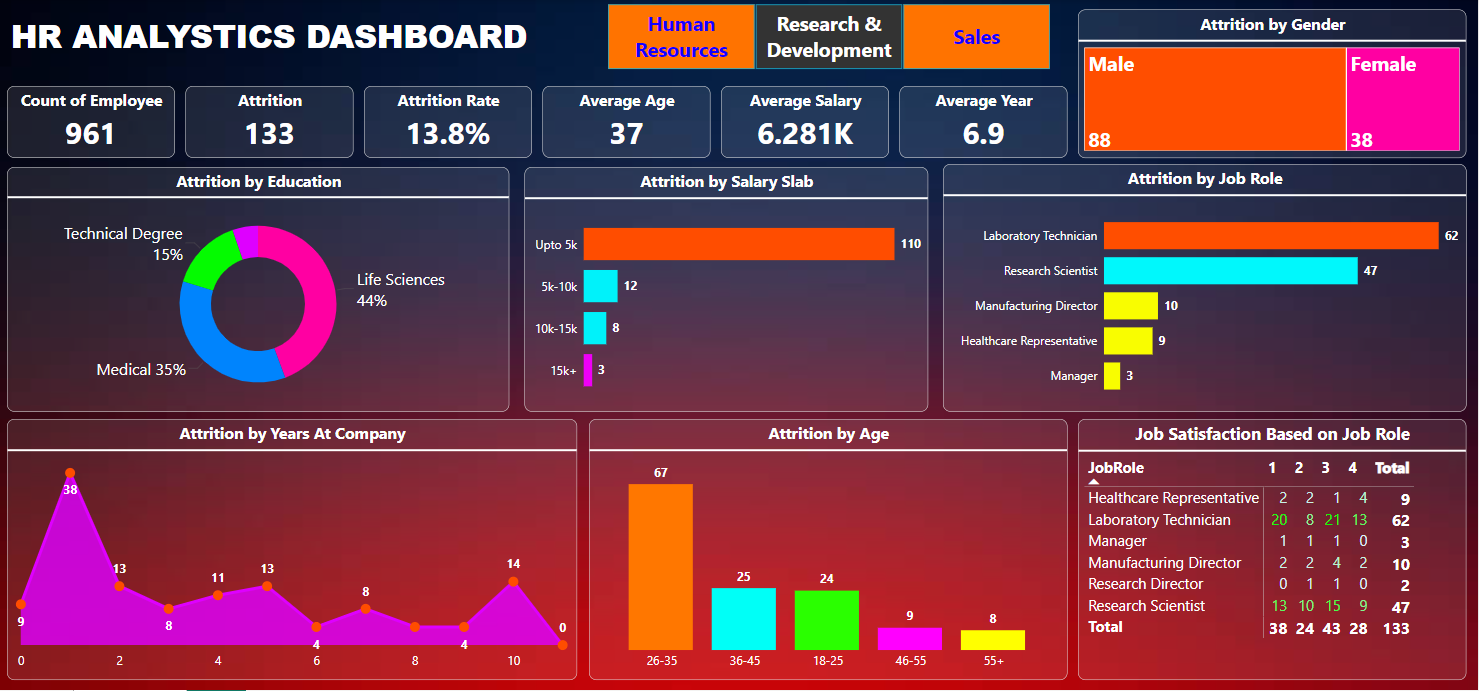

The dashboard page shown, as its layout file describes it:
{"tool":"powerbi","page":{"name":"Page 1","canvas":[2000,930],"ordinal":0},"visuals":[{"type":"card","title":"Count of Employee","fields":{"Values":["Count(HR_Analytics.EmpID)"]},"box":[20.2,117.1,226.1,96.9],"z":0},{"type":"card","title":"Attrition ","fields":{"Values":["Sum(HR_Analytics.AttritionCount)"]},"box":[260.4,117.1,226.1,96.9],"z":1000},{"type":"card","title":"Attrition Rate","fields":{"Values":["HR_Analytics.attrition_rate"]},"box":[500.7,117.1,226.1,96.9],"z":2000},{"type":"card","title":"Average Age","fields":{"Values":["Avg(HR_Analytics.Age)"]},"box":[740.9,117.1,226.1,96.9],"z":3000},{"type":"card","title":"Average Salary","fields":{"Values":["Avg(HR_Analytics.MonthlyIncome)"]},"box":[981.2,117.1,226.1,96.9],"z":4000},{"type":"card","title":"Average Year","fields":{"Values":["Avg(HR_Analytics.YearsAtCompany)"]},"box":[1221.4,117.1,226.1,96.9],"z":5000},{"type":"slicer","title":"Department","fields":{"Values":["HR_Analytics.Department"]},"box":[803.5,0,644,100.9],"z":6000},{"type":"textbox","box":[20.2,14.1,720.7,78.7],"z":7000},{"type":"treemap","title":"Attrition by Gender","fields":{"Group":["HR_Analytics.Gender"],"Values":["Sum(HR_Analytics.AttritionCount)"]},"box":[1461.7,14.1,522.9,199.9],"z":8000},{"type":"donutChart","title":"Attrition by Education","fields":{"Category":["HR_Analytics.EducationField"],"Y":["Sum(HR_Analytics.AttritionCount)"]},"box":[20.2,226.1,676.3,329.1],"z":9000},{"type":"pivotTable","title":"Job Satisfaction Based on Job Role","fields":{"Rows":["HR_Analytics.JobRole"],"Columns":["HR_Analytics.JobSatisfaction"],"Values":["Sum(HR_Analytics.AttritionCount)"]},"box":[1461.7,565.3,522.9,351.3],"z":10000},{"type":"areaChart","title":"Attrition by Years At Company","fields":{"Category":["HR_Analytics.YearsAtCompany"],"Y":["Sum(HR_Analytics.AttritionCount)"]},"box":[20.2,565.3,767.2,351.3],"z":11000},{"type":"columnChart","title":"Attrition by Age","fields":{"Category":["HR_Analytics.AgeGroup"],"Y":["Sum(HR_Analytics.AttritionCount)"]},"box":[803.5,565.3,644,351.3],"z":12000},{"type":"barChart","title":"Attrition by Salary Slab","fields":{"Category":["HR_Analytics.SalarySlab"],"Y":["Sum(HR_Analytics.AttritionCount)"]},"box":[716.7,226.1,543.1,329.1],"z":13000},{"type":"barChart","title":"Attrition by Job Role","fields":{"Y":["Sum(HR_Analytics.AttritionCount)"],"Category":["HR_Analytics.JobRole"]},"box":[1280,222.1,704.6,333.1],"z":14000}]}

Visuals, with their boxes in screenshot pixels (x1, y1, x2, y2), scaled from the page's 2000x930 canvas onto the 1479x691 screenshot:
"Count of Employee" card: [left=15, top=87, right=182, bottom=159]
"Attrition " card: [left=193, top=87, right=360, bottom=159]
"Attrition Rate" card: [left=370, top=87, right=537, bottom=159]
"Average Age" card: [left=548, top=87, right=715, bottom=159]
"Average Salary" card: [left=726, top=87, right=893, bottom=159]
"Average Year" card: [left=903, top=87, right=1070, bottom=159]
"Department" slicer: [left=594, top=0, right=1070, bottom=75]
textbox: [left=15, top=10, right=548, bottom=69]
"Attrition by Gender" treemap: [left=1081, top=10, right=1468, bottom=159]
"Attrition by Education" donutChart: [left=15, top=168, right=515, bottom=413]
"Job Satisfaction Based on Job Role" pivotTable: [left=1081, top=420, right=1468, bottom=681]
"Attrition by Years At Company" areaChart: [left=15, top=420, right=582, bottom=681]
"Attrition by Age" columnChart: [left=594, top=420, right=1070, bottom=681]
"Attrition by Salary Slab" barChart: [left=530, top=168, right=932, bottom=413]
"Attrition by Job Role" barChart: [left=947, top=165, right=1468, bottom=413]
